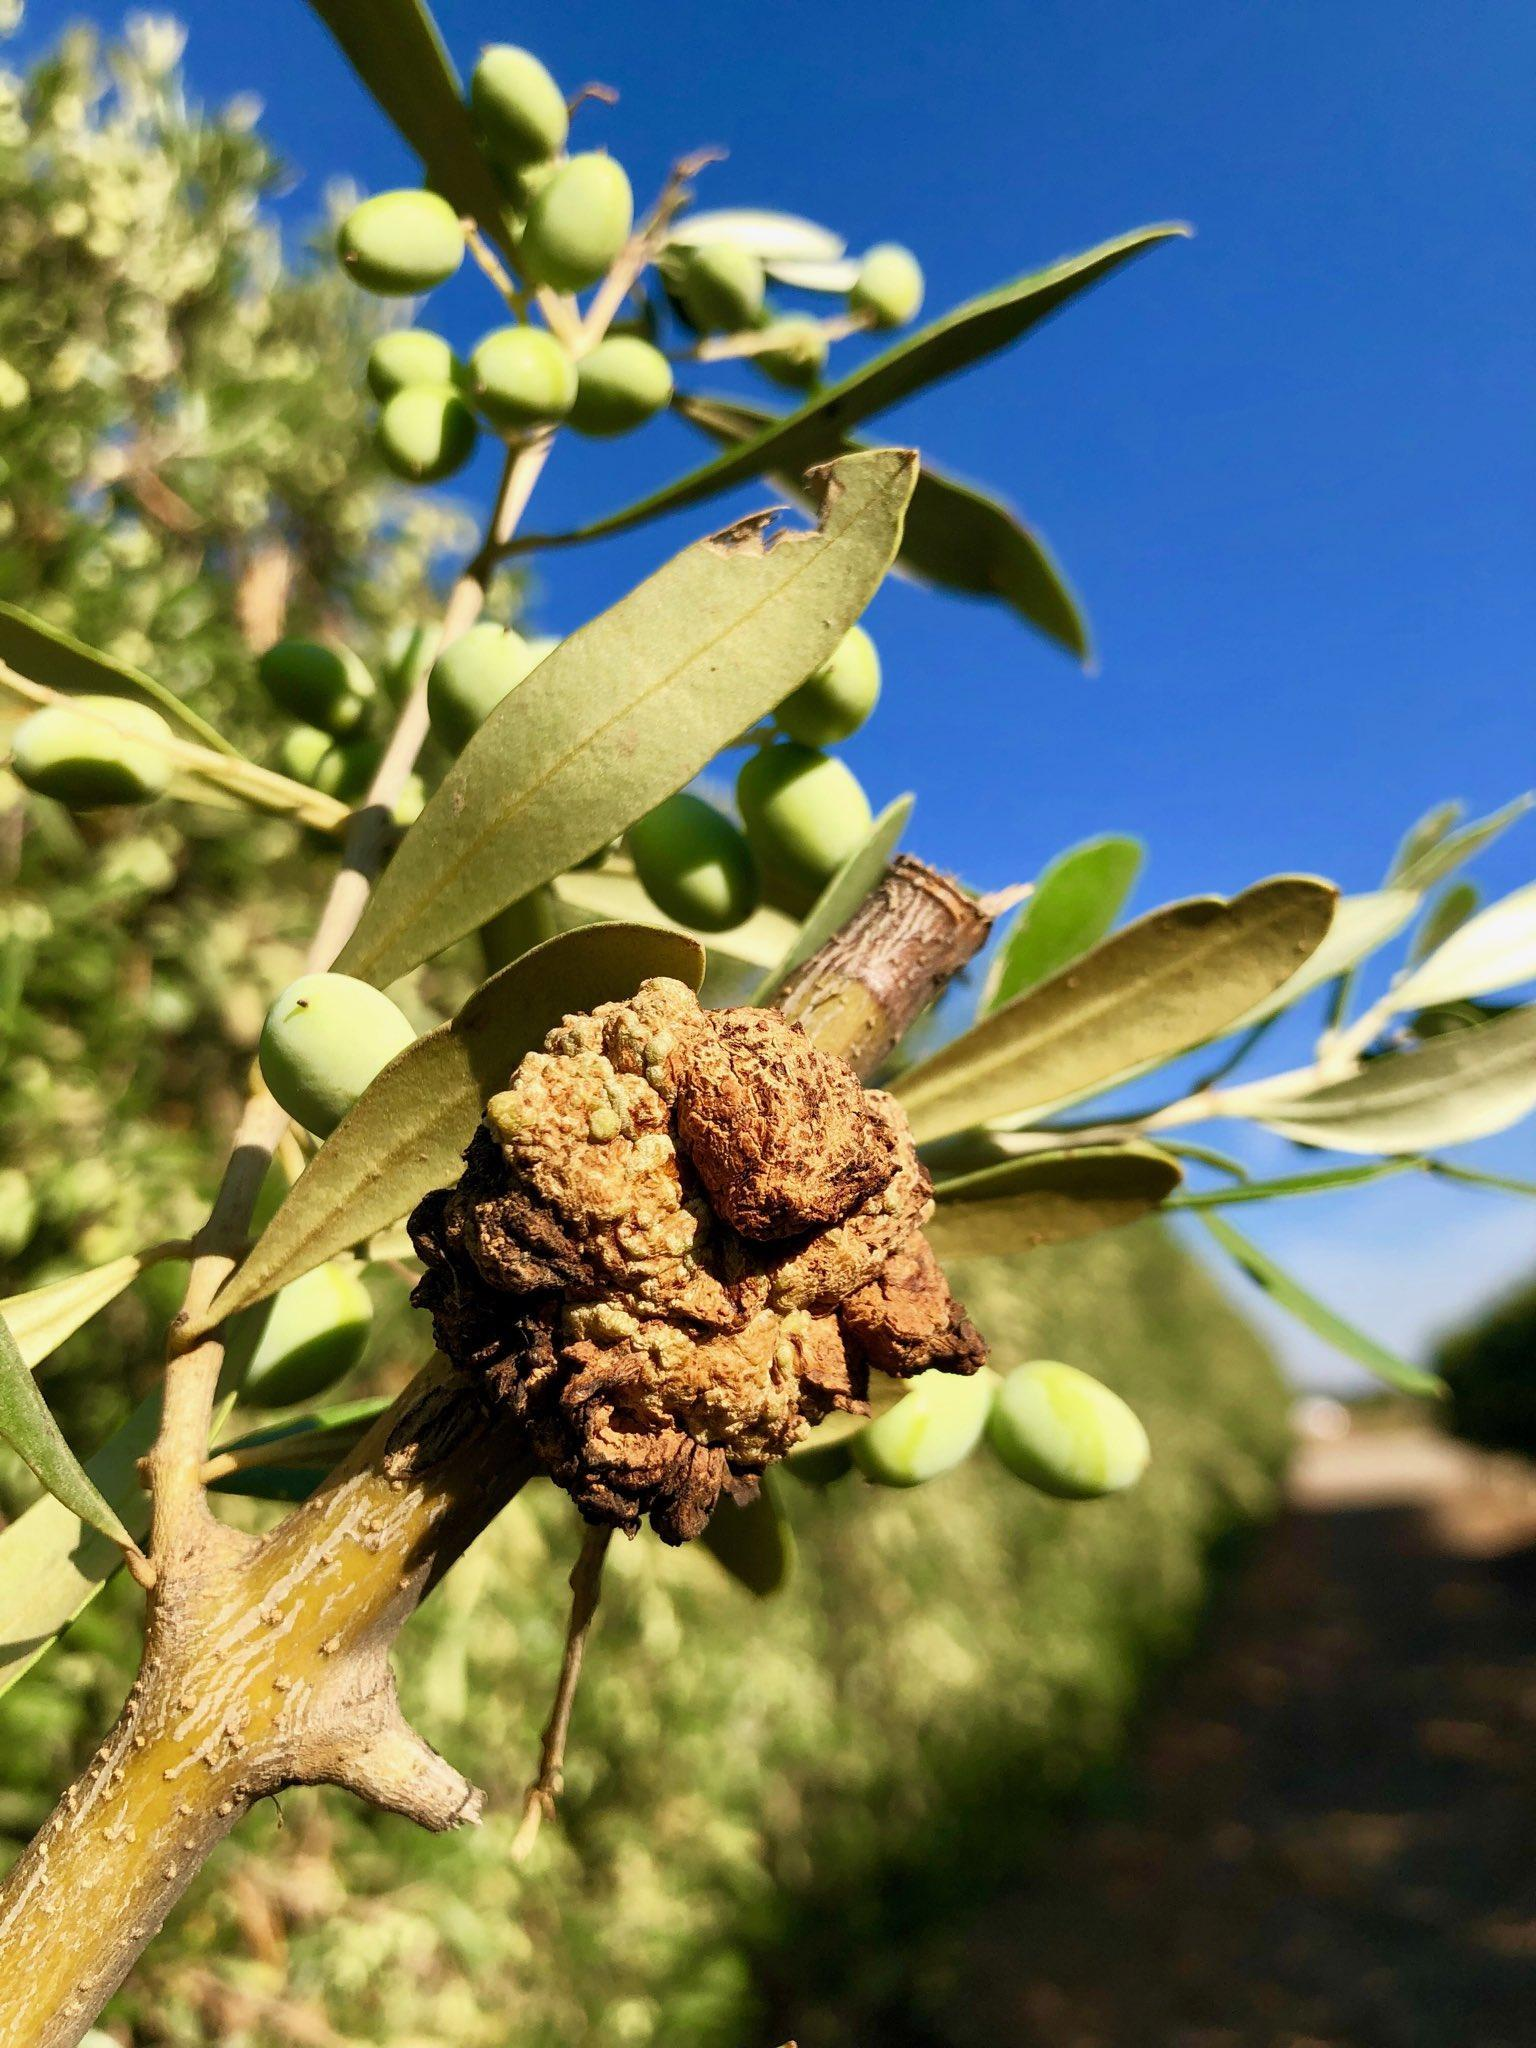Tuberculosis: (387, 963, 1002, 1564)
